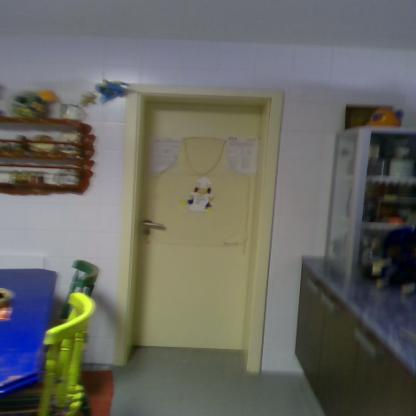door: (146, 103, 250, 349)
lever: (140, 219, 172, 233)
